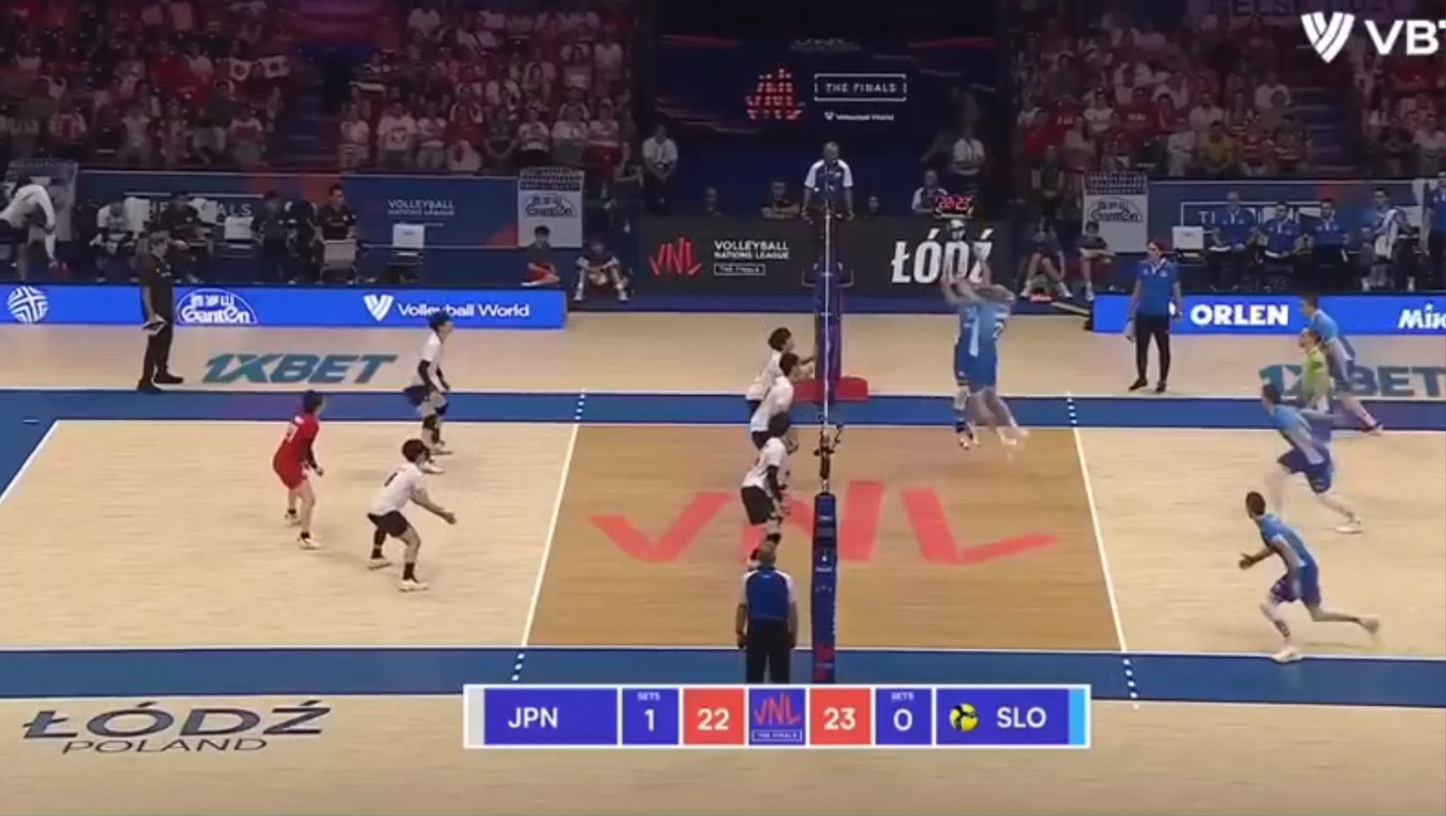ball: (948, 218, 968, 240)
player: (1237, 491, 1378, 663), (1261, 382, 1361, 533), (1302, 298, 1379, 431), (973, 286, 1027, 444), (941, 279, 986, 447), (1296, 328, 1336, 438)
player 1: (366, 438, 456, 591), (272, 391, 325, 549), (404, 311, 453, 472), (740, 414, 789, 545), (749, 351, 800, 448), (745, 326, 796, 412), (798, 355, 814, 367)
referee: (736, 536, 797, 684), (1128, 240, 1183, 393), (134, 225, 183, 393), (802, 142, 853, 286)
